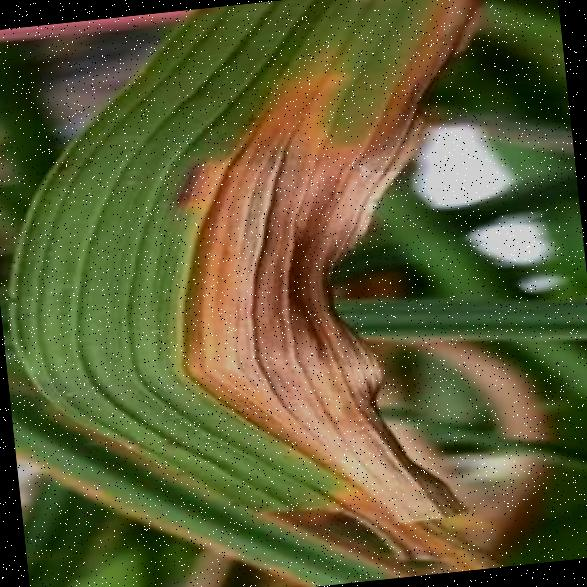Bacteria_Leaf_Blight: (35, 0, 393, 531)
